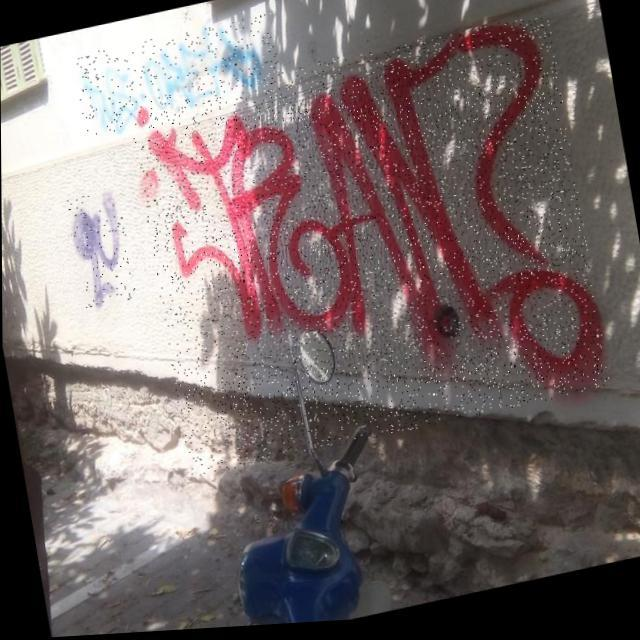-: (127, 16, 610, 483), (72, 16, 285, 140), (66, 189, 136, 312)
